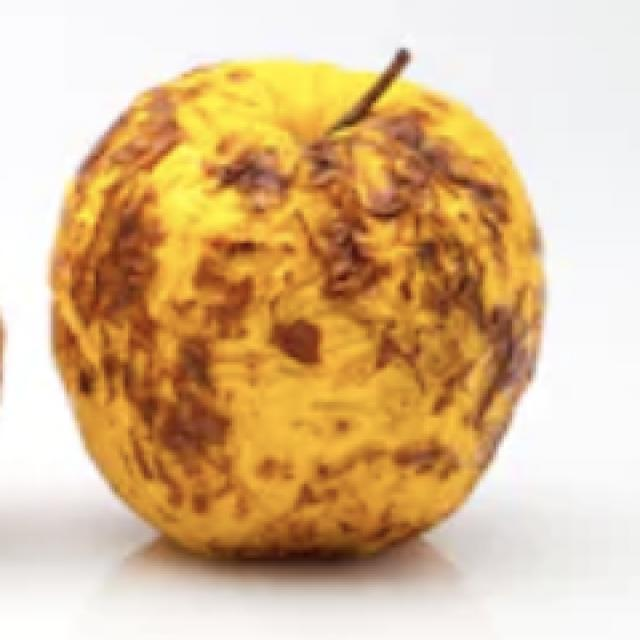rotten_apple: (51, 63, 545, 583)
